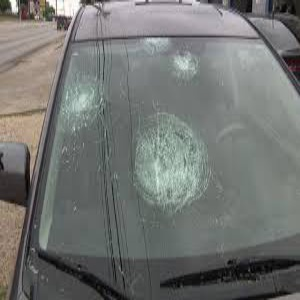bumper: (90, 92, 243, 188)
